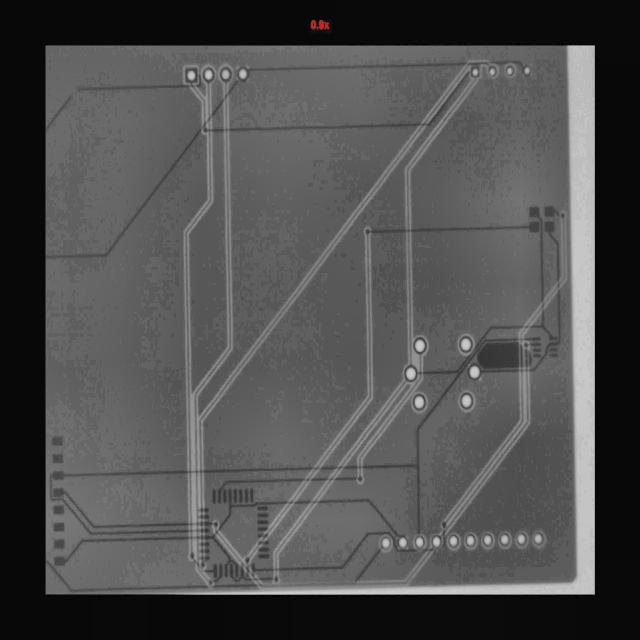Both: (455, 333, 476, 356), (466, 362, 483, 382), (412, 392, 427, 412), (413, 337, 428, 355), (459, 392, 474, 410), (404, 364, 418, 383), (185, 67, 198, 83), (465, 533, 477, 548), (237, 67, 249, 82), (220, 67, 232, 82), (521, 63, 533, 77), (482, 533, 494, 547), (499, 533, 511, 547), (380, 536, 391, 551), (504, 64, 516, 77), (397, 535, 408, 549), (414, 535, 425, 549), (516, 533, 527, 547), (533, 532, 544, 546), (431, 535, 442, 548), (487, 65, 498, 78), (448, 535, 459, 548), (204, 68, 214, 82), (471, 67, 479, 78), (213, 522, 218, 528), (524, 343, 528, 348), (561, 213, 565, 218)
L1: (52, 330, 569, 591), (43, 63, 254, 289), (383, 216, 579, 385), (468, 232, 606, 400), (200, 71, 476, 149), (205, 476, 400, 569), (36, 475, 197, 569), (47, 549, 382, 592), (252, 517, 451, 587), (57, 492, 197, 551), (62, 519, 197, 563), (248, 61, 523, 71), (77, 73, 202, 93), (218, 473, 363, 490), (366, 223, 530, 235), (43, 95, 73, 133), (53, 538, 65, 549), (544, 206, 554, 217), (545, 222, 555, 232), (54, 557, 65, 566), (530, 207, 539, 217), (530, 222, 539, 232), (54, 506, 64, 515), (52, 455, 63, 463), (52, 438, 63, 446), (54, 523, 64, 531), (53, 472, 64, 479), (552, 209, 561, 217), (54, 489, 63, 497), (197, 508, 210, 513), (197, 549, 210, 554), (212, 489, 216, 504), (197, 556, 211, 560), (258, 527, 269, 532), (258, 533, 269, 538), (197, 515, 210, 519), (197, 522, 210, 526), (197, 529, 210, 533), (197, 542, 210, 546), (258, 541, 270, 545), (218, 489, 221, 504), (223, 489, 226, 504), (234, 488, 237, 503), (239, 488, 242, 503), (258, 513, 269, 517), (258, 521, 269, 525), (258, 548, 269, 552), (258, 554, 269, 558), (245, 488, 248, 502), (250, 488, 253, 502), (252, 563, 255, 577), (247, 563, 250, 577), (241, 564, 244, 577), (235, 564, 238, 577), (230, 564, 233, 577), (219, 564, 222, 577), (197, 536, 210, 539), (225, 565, 228, 577), (229, 489, 231, 504), (258, 507, 268, 510), (214, 564, 216, 577)
L2: (138, 27, 492, 563), (189, 234, 443, 574), (445, 210, 581, 536), (177, 84, 256, 582), (365, 67, 477, 364), (262, 372, 407, 583), (405, 348, 563, 537), (171, 83, 217, 559), (210, 528, 433, 602), (349, 355, 432, 477), (190, 81, 212, 129)
